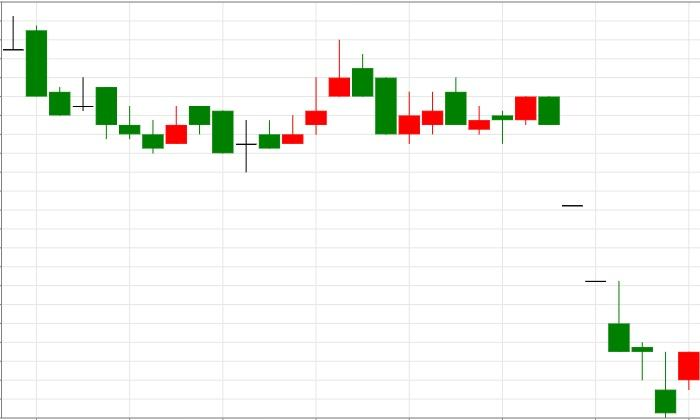inverse_hammer_rise: (538, 96, 630, 352)
